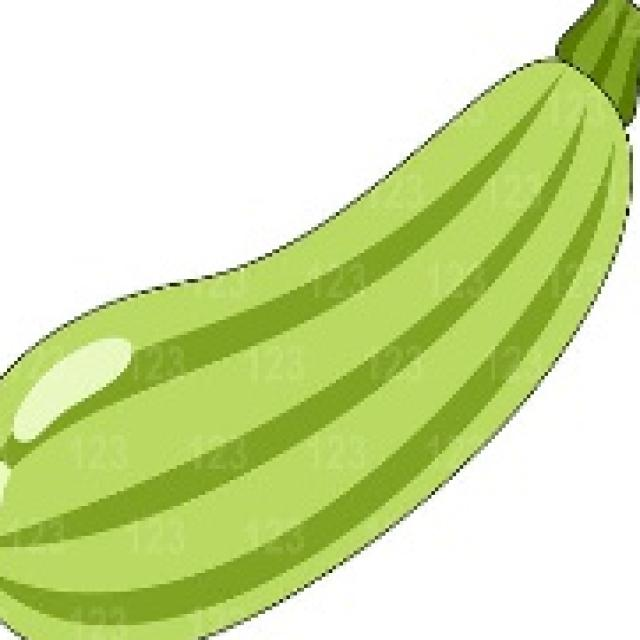cucumber: (0, 59, 636, 640)
